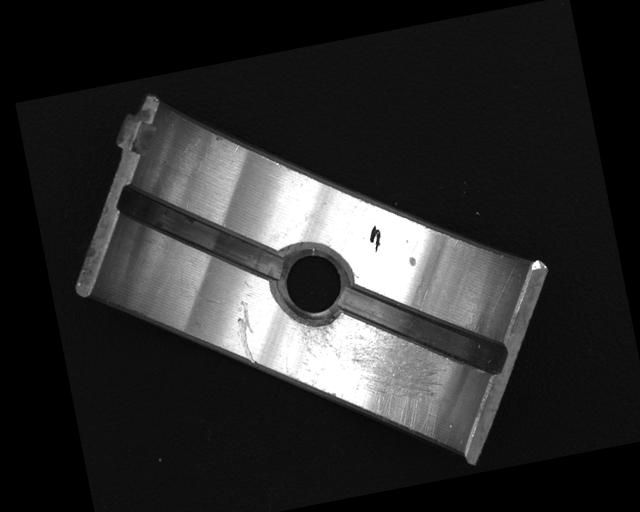blot: (365, 223, 384, 254)
bruise: (406, 254, 418, 270)
gap: (115, 161, 287, 305), (341, 263, 510, 396)
hole: (268, 239, 358, 330)
nick: (230, 299, 262, 366)
scratch: (293, 297, 452, 463)
